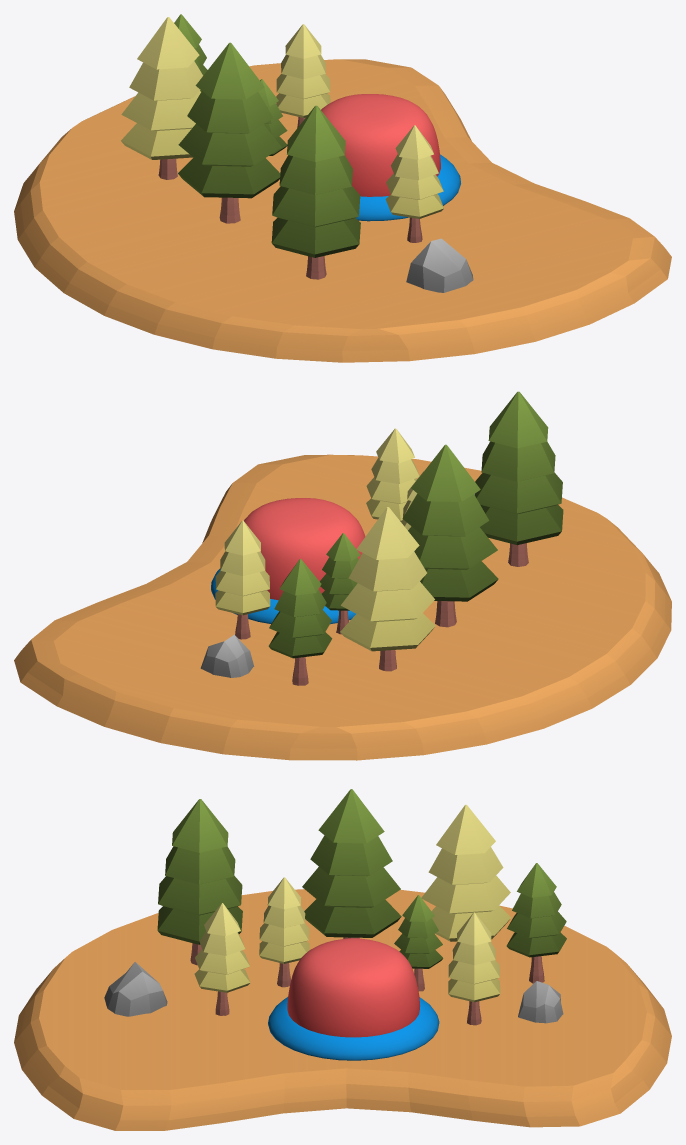
The model's file is Button_Level.fbx.
3 views of the same model, one above another, from view 1: azimuth 30°, elevation 25°; view 2: azimuth 150°, elevation 25°; view 3: azimuth 270°, elevation 25° (orthographic). The views are drawn at different scales.
Visible parts, largest first — view 1: Trees, ButtonMerah; view 2: Trees, ButtonMerah; view 3: Trees, ButtonMerah.
Part boxes in pixels (left/top/right/bottom): Trees: left=14, top=14, right=671, bottom=362; ButtonMerah: left=321, top=94, right=440, bottom=196; Trees: left=14, top=391, right=671, bottom=760; ButtonMerah: left=244, top=498, right=365, bottom=600; Trees: left=14, top=789, right=671, bottom=1130; ButtonMerah: left=287, top=938, right=419, bottom=1037.
Bounding box in the file's own units: 1153 × 449 × 1391.
Materials: 6 (6 with a texture image).
